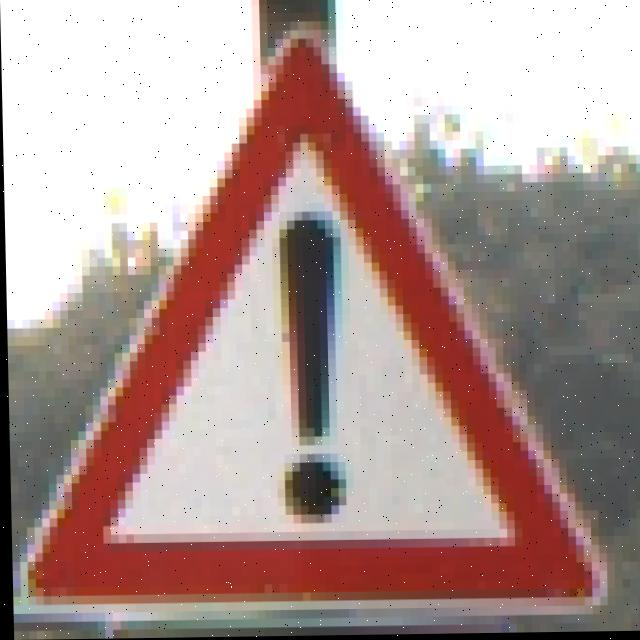warning: (48, 73, 577, 626)
